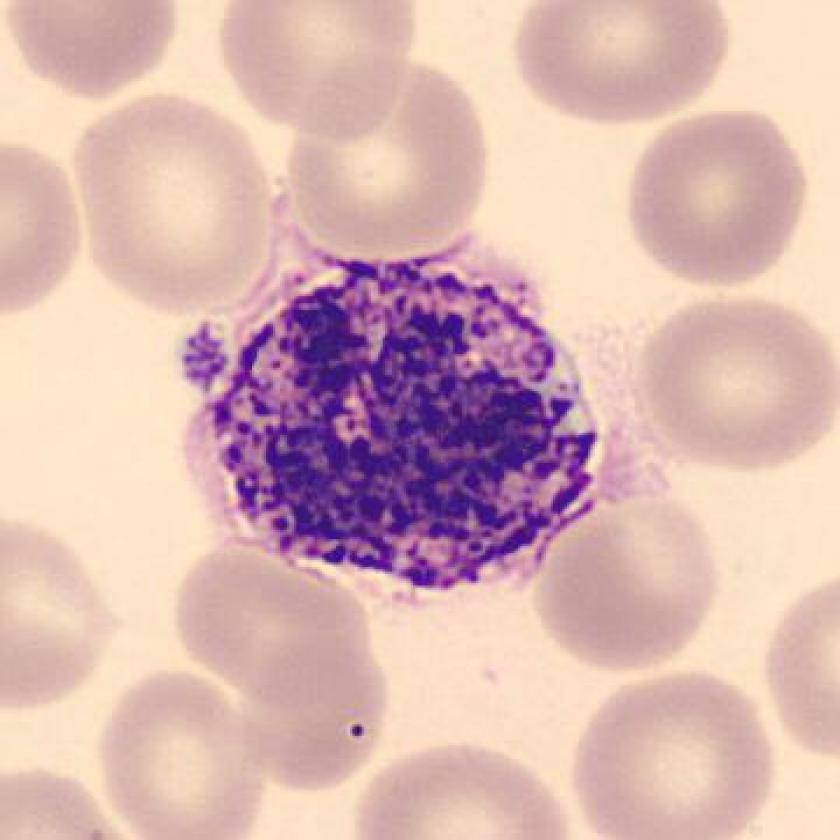basophil: (188, 233, 622, 594)
